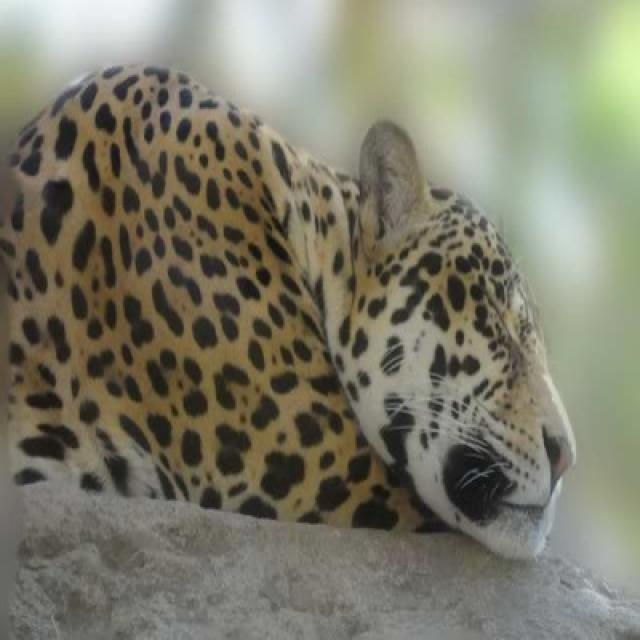Jaguar: (0, 64, 576, 635)
